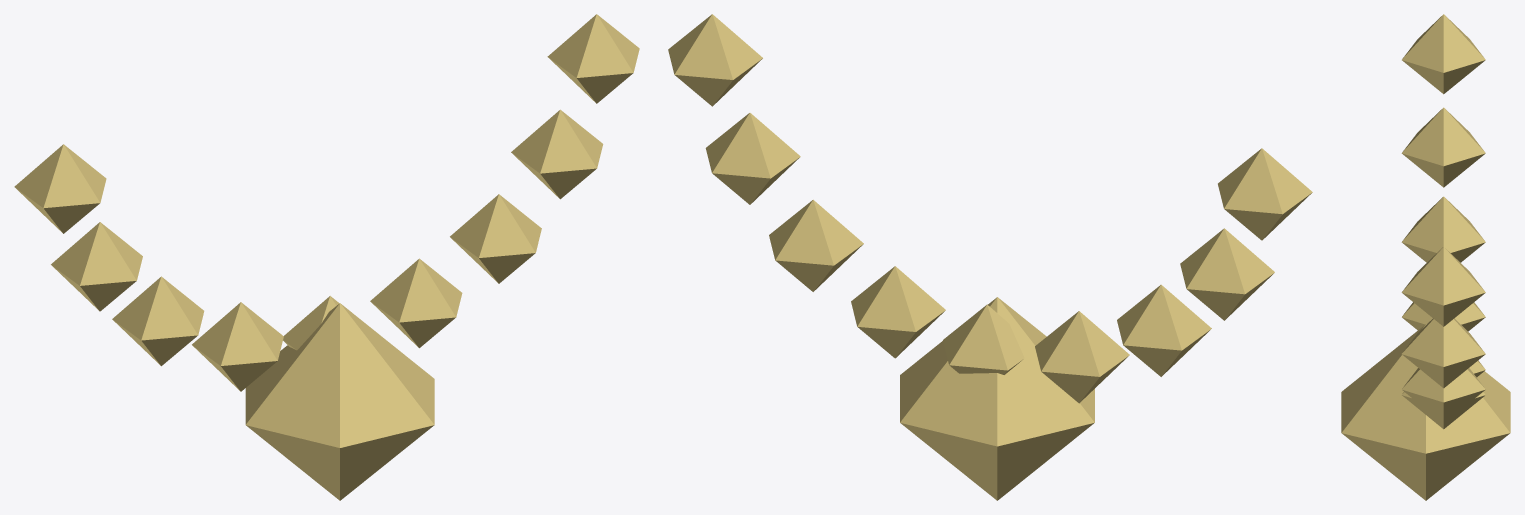
File: av_acc_chain.glb
3 renders of one model, left to right at view 1: azimuth 30°, elevation 25°; view 2: azimuth 150°, elevation 25°; view 3: azimuth 270°, elevation 25°, orthographic. The views are drawn at different scales.
Size of the model in its own units: 0.3553 by 0.2304 by 0.0953.
